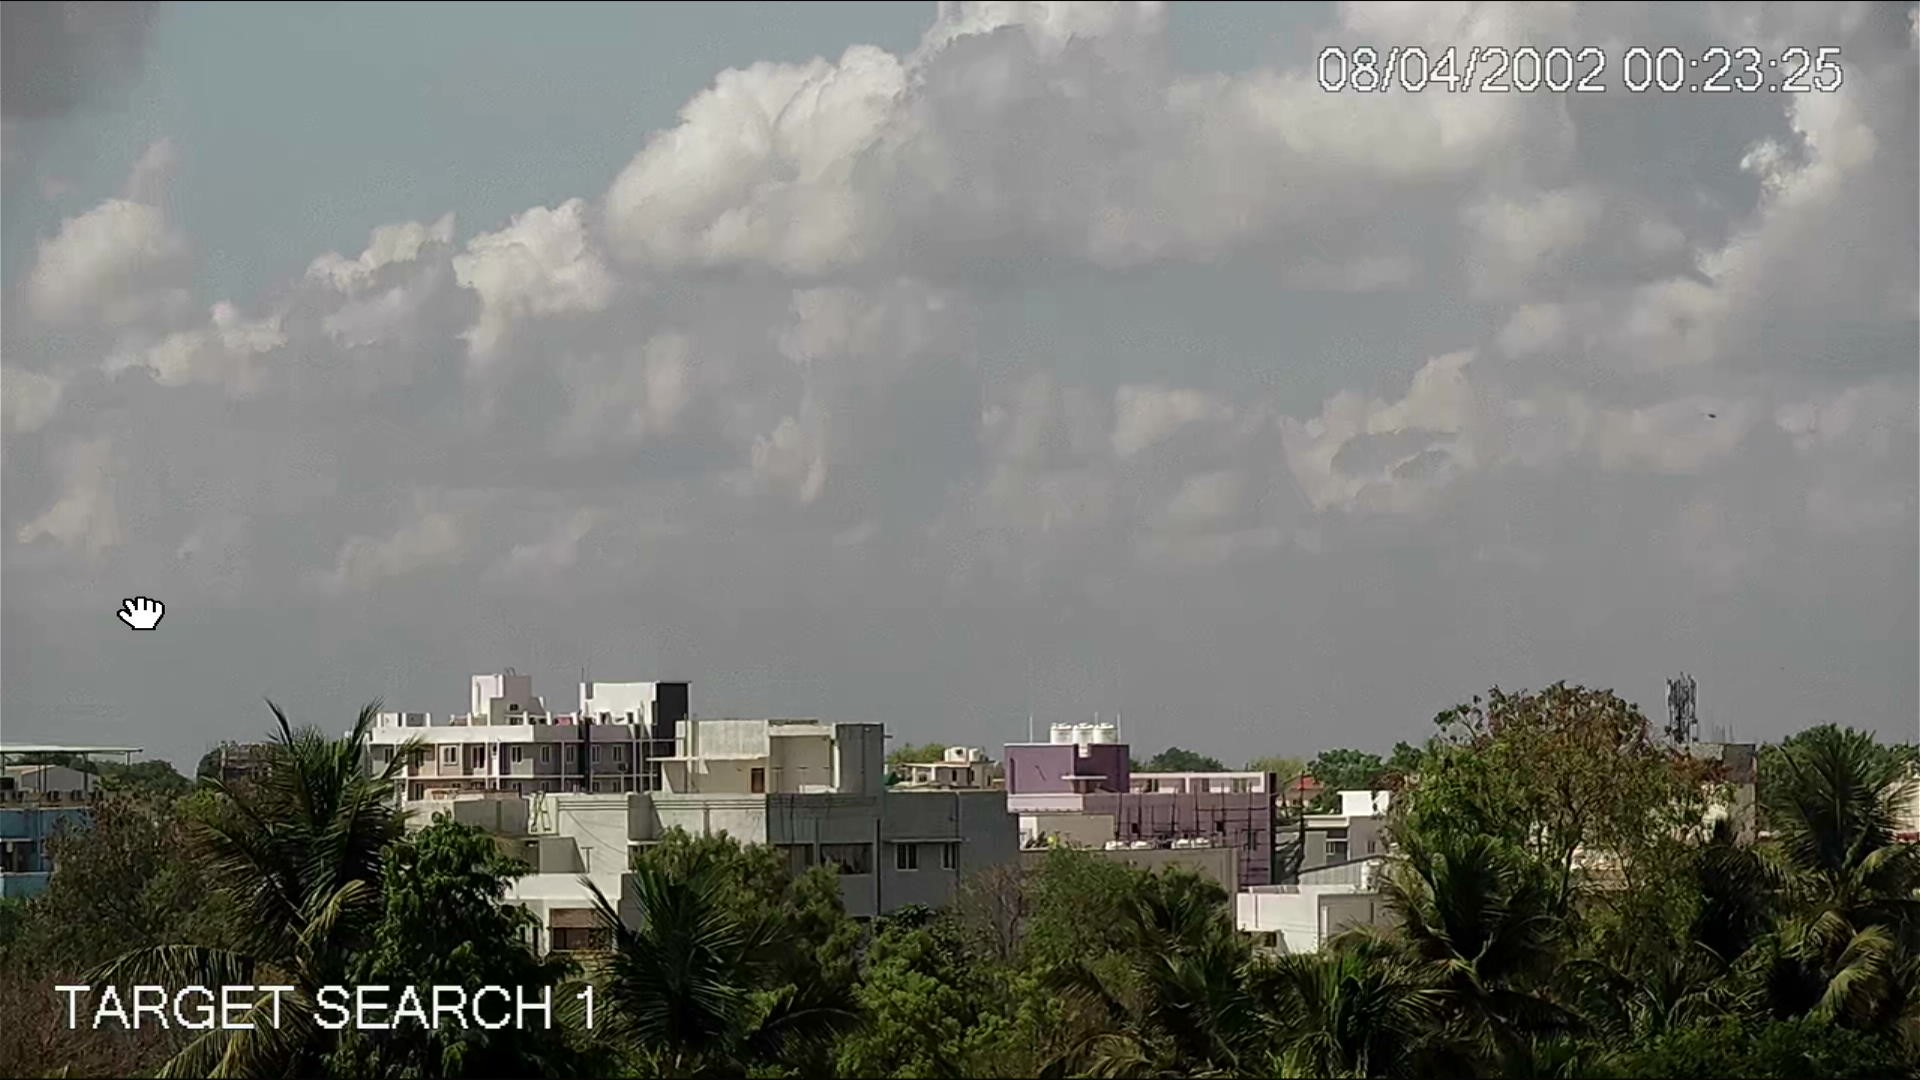SU_30: (1695, 405, 1718, 423)
